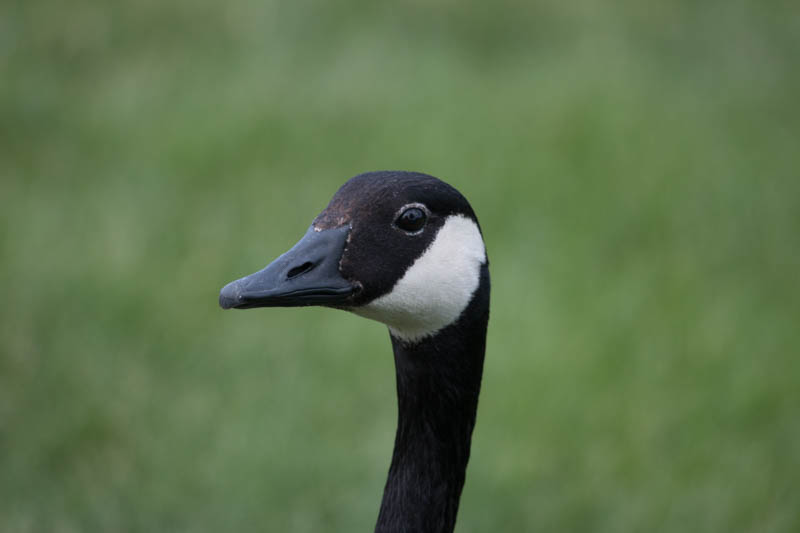goose-head: (217, 169, 491, 345)
